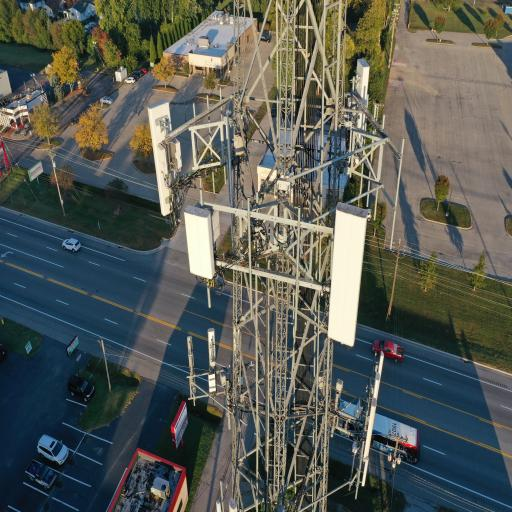supporting_tower: (146, 0, 421, 512)
